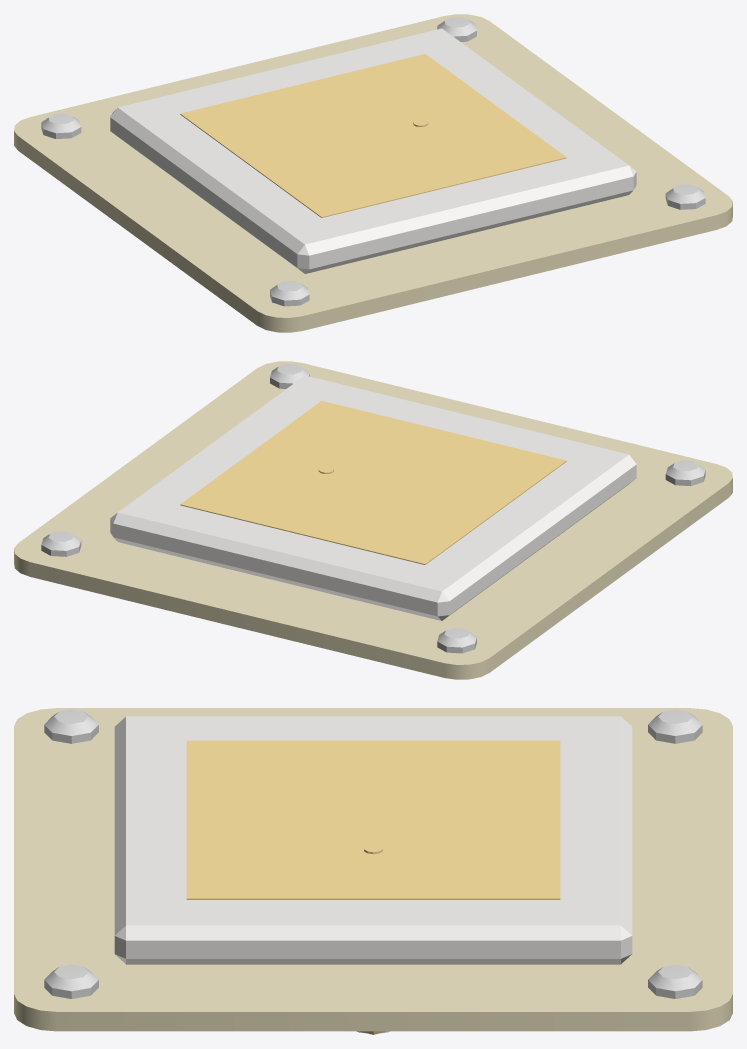
Rendered from patch_antenna.glb.
3 renders of one model, top to bottom at view 1: azimuth 30°, elevation 25°; view 2: azimuth 150°, elevation 25°; view 3: azimuth 270°, elevation 25°, orthographic. The views are drawn at different scales.
Visible parts, largest first — view 1: patch_antenna; view 2: patch_antenna; view 3: patch_antenna.
Boxes of the visible parts, x1,y1,x2,y2 form: patch_antenna: [14, 14, 732, 332]; patch_antenna: [14, 361, 732, 679]; patch_antenna: [14, 708, 732, 1034].
Bounding box in the file's own units: 0.05 × 0.014 × 0.05.
